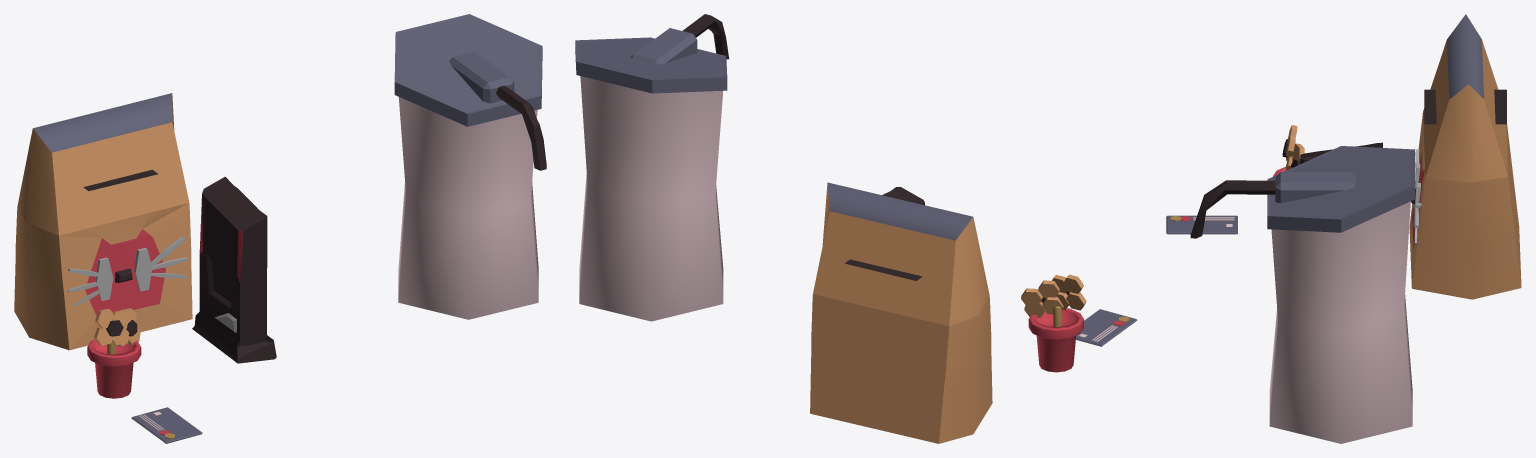
Rendered from Lofi_Asset2_ActiveItem.fbx.
3 views of the same model, side by side, from view 1: azimuth 30°, elevation 25°; view 2: azimuth 150°, elevation 25°; view 3: azimuth 270°, elevation 25° (orthographic). The views are drawn at different scales.
Visible parts, largest first — view 1: WaterFiller_6, CatFood_15, group11, Flower_28, CreditCard_4; view 2: CatFood_15, WaterFiller_6, Flower_28, CreditCard_4; view 3: WaterFiller_6, CatFood_15, CreditCard_4, Flower_28.
Part boxes in pixels (x1,y1,x2,y2): WaterFiller_6: (394,14,546,319); CatFood_15: (14,93,192,350); group11: (192,176,276,363); Flower_28: (87,308,141,398); CreditCard_4: (131,407,202,443); CatFood_15: (810,182,992,443); WaterFiller_6: (575,14,729,321); Flower_28: (1021,274,1086,372); CreditCard_4: (1076,309,1137,346); WaterFiller_6: (1190,146,1414,443); CatFood_15: (1409,14,1521,299); CreditCard_4: (1166,215,1237,234); Flower_28: (1273,125,1304,176).
Size of the model in its own units: 673 by 330 by 430.
